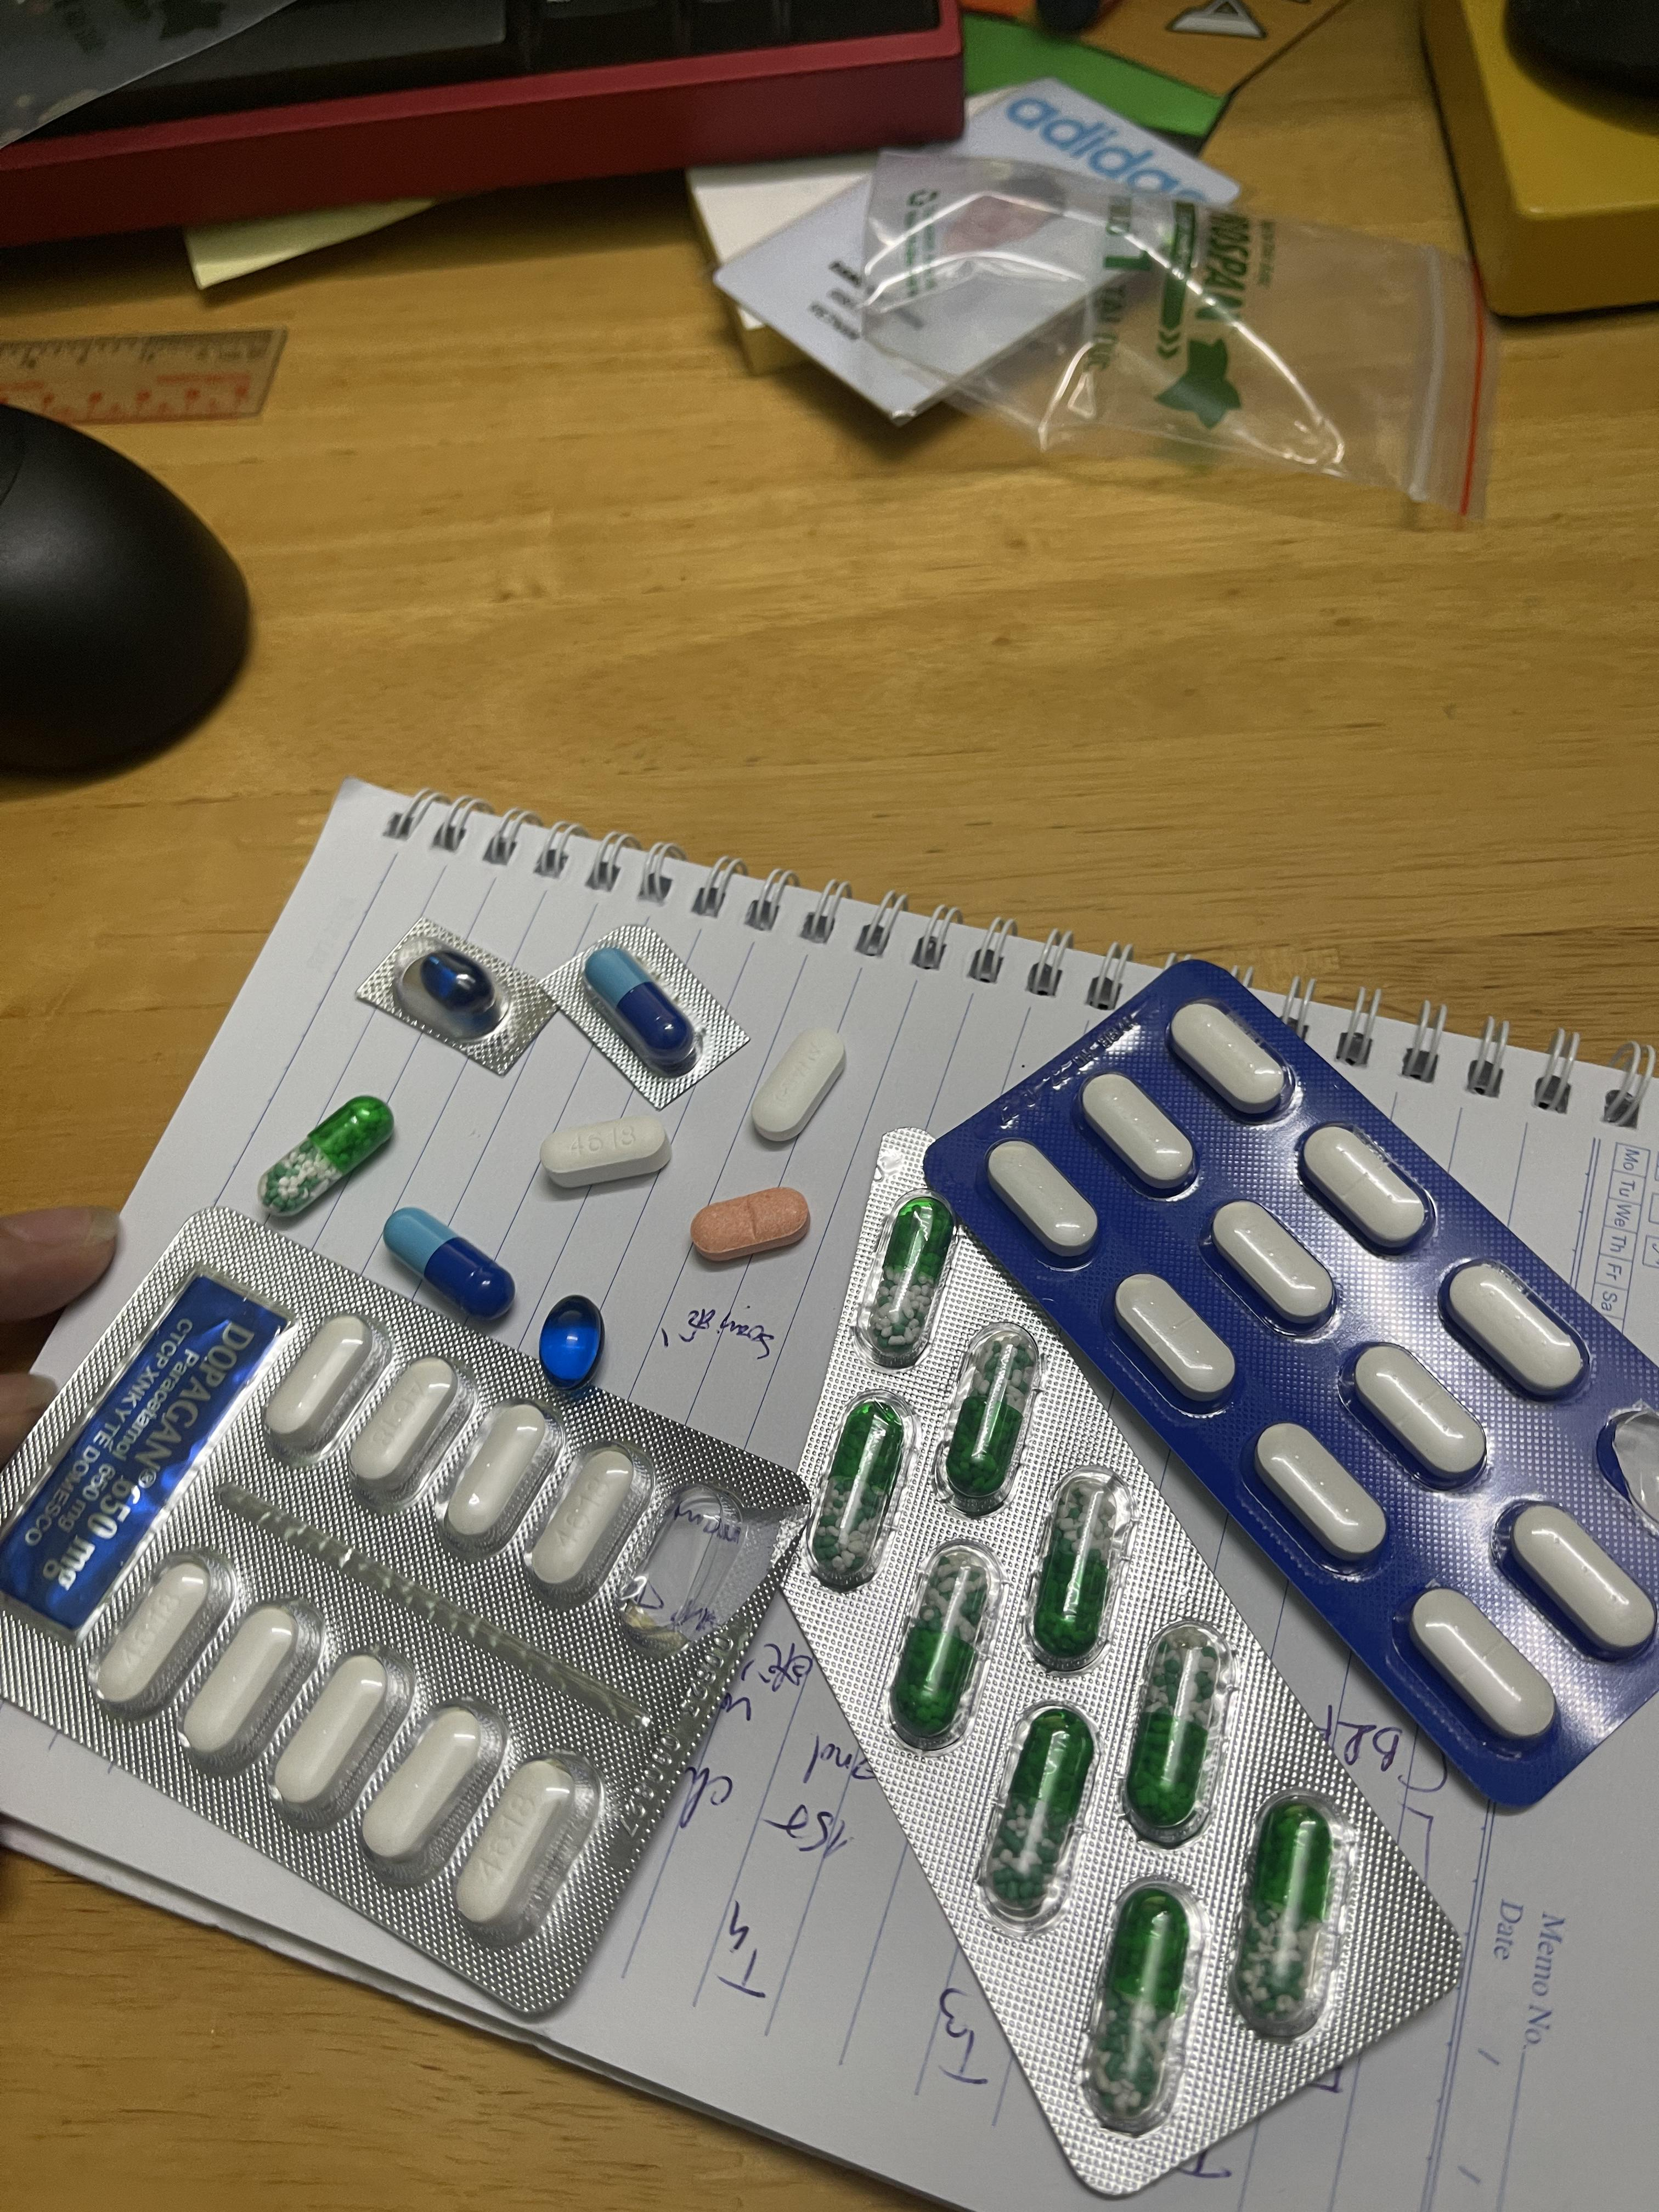Lincomyxin_500mg: (420, 949, 502, 1024), (538, 1296, 605, 1386)
Loratadine_10mg: (690, 1186, 809, 1261)
Paracetamol_350mg: (1493, 1501, 1654, 1662), (1408, 1590, 1553, 1745), (1439, 1259, 1589, 1400), (1351, 1346, 1490, 1486), (1251, 1421, 1385, 1562), (1300, 1125, 1436, 1252), (1115, 1271, 1237, 1404), (1211, 1204, 1337, 1329), (1169, 1000, 1291, 1115), (1080, 1073, 1194, 1190), (988, 1141, 1100, 1258), (749, 1028, 843, 1141)
Paracetamol_500mg: (176, 1595, 333, 1778), (451, 1752, 603, 1939), (267, 1648, 411, 1829), (361, 1705, 502, 1876), (523, 1439, 650, 1597), (94, 1557, 227, 1709), (256, 1312, 385, 1465), (432, 1400, 559, 1555), (352, 1362, 462, 1494), (542, 1113, 673, 1188)
Paracetamol_650mg: (974, 1705, 1096, 1925), (1082, 1890, 1192, 2132), (1236, 1810, 1333, 2033), (885, 1545, 997, 1738), (1122, 1634, 1222, 1834), (812, 1397, 911, 1576), (1026, 1480, 1121, 1658), (939, 1334, 1033, 1503), (263, 1096, 392, 1214), (866, 1198, 950, 1355)
pill: (382, 1205, 516, 1327), (584, 946, 697, 1071)
